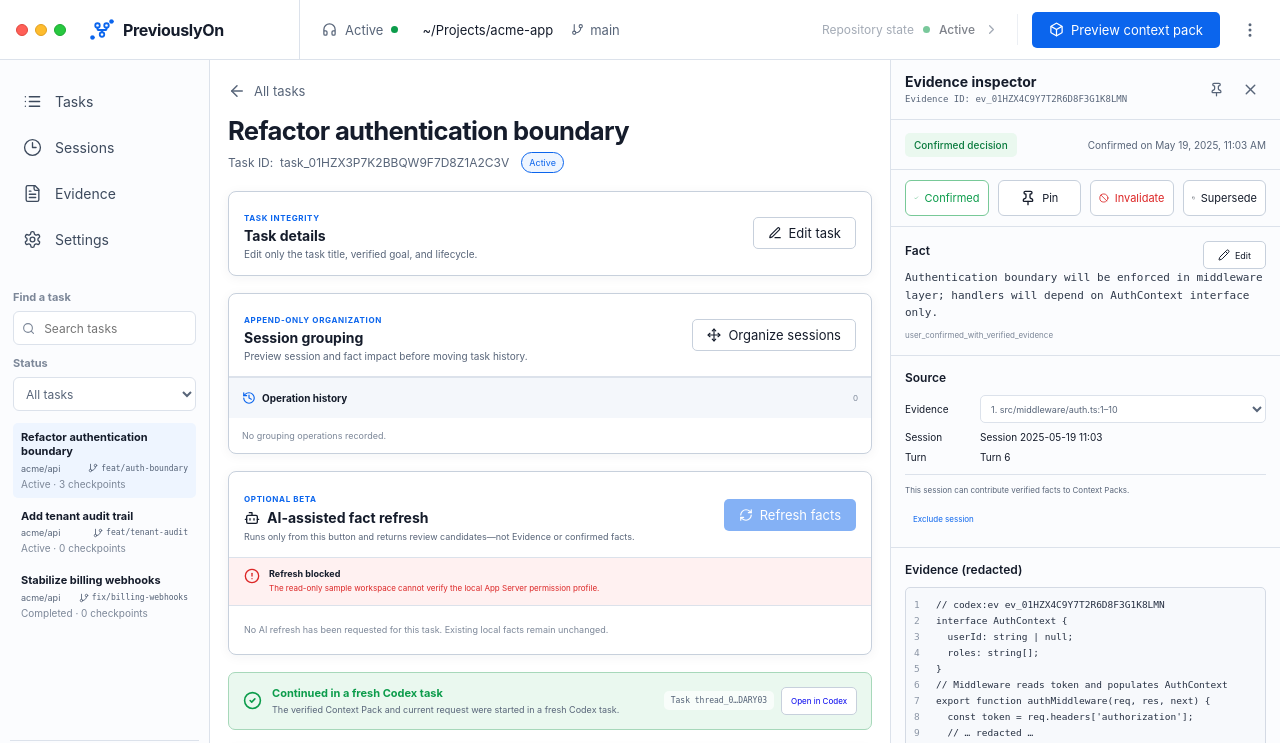
PreviouslyOn review workspace › renders the actual evidence sequence for arbitrary evidence IDs
Select "2. src/server/middleware/auth.ts:42–67" in the dropdown named "Evidence item" at [1123, 409], box 980,395 -> 1266,423
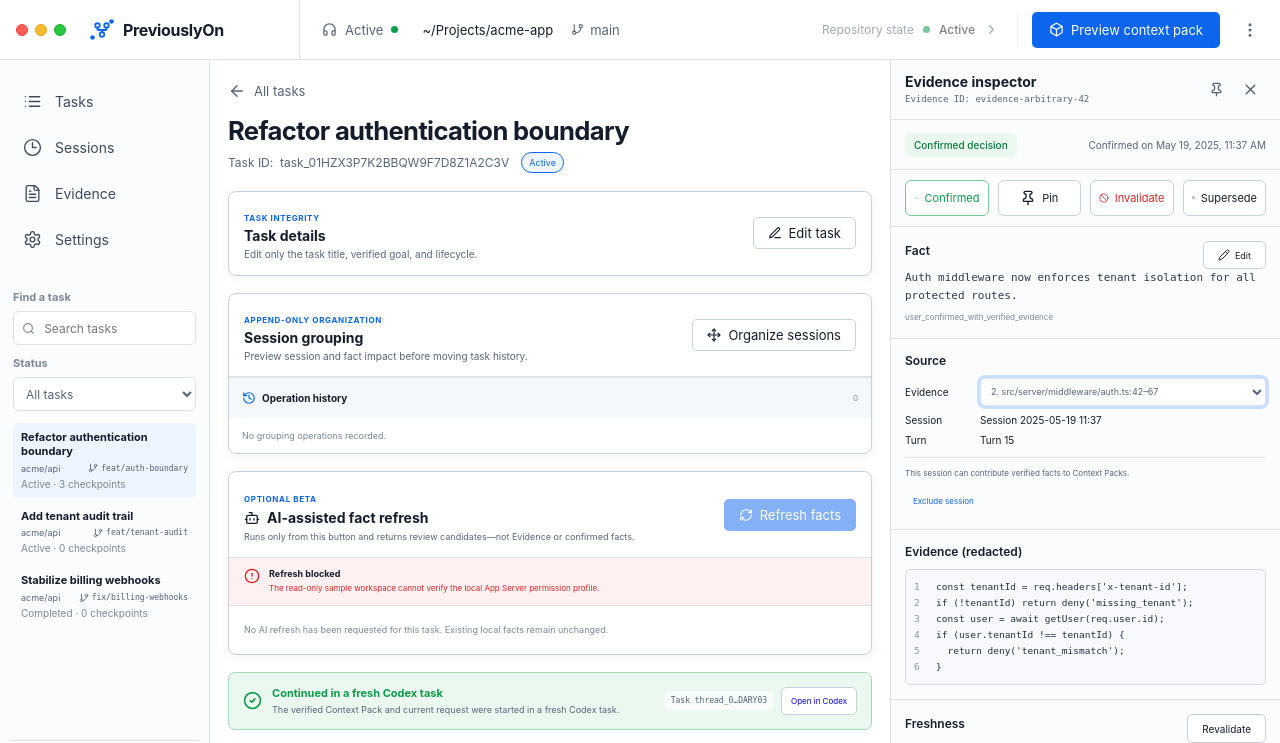
Expected: the text "Evidence ID: evidence-arbitrary-42" is shown, 905,94 -> 1089,104
